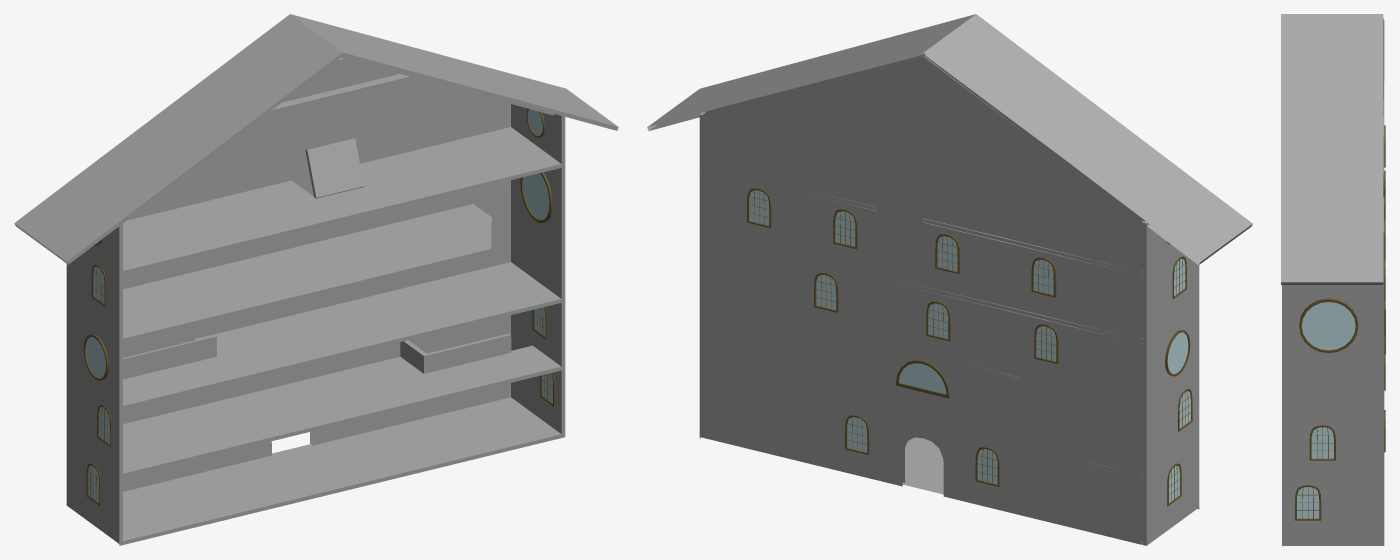
File: HouseUV.fbx
3 views of the same model, side by side, from view 1: azimuth 30°, elevation 25°; view 2: azimuth 150°, elevation 25°; view 3: azimuth 270°, elevation 25° (orthographic). The views are drawn at different scales.
Parts seen in each view (by area): view 1: BackWall, Roof3, GroundFloor, Floor2, Floor1, Floor4, Floor3, LeftWall, RightWall, AtticHatch, Round_Window, Round_Window4; view 2: BackWall, Roof3, LeftWall, GroundFloor, RightWall, CrescentWindow, Window25, Round_Window4, Window24, Window26, Window23, Window27 (+4 smaller); view 3: Roof3, RightWall, Round_Window, Window20, Window21, GroundFloor, BackWall, Floor4.
Boxes of the visible parts, x1=… form: BackWall: x1=123, y1=64, x2=510, y2=491; Roof3: x1=14, y1=14, x2=618, y2=264; GroundFloor: x1=119, y1=397, x2=565, y2=545; Floor2: x1=119, y1=262, x2=565, y2=410; Floor1: x1=119, y1=333, x2=565, y2=478; Floor4: x1=119, y1=127, x2=565, y2=275; Floor3: x1=119, y1=204, x2=491, y2=343; LeftWall: x1=66, y1=223, x2=122, y2=543; RightWall: x1=511, y1=104, x2=565, y2=434; AtticHatch: x1=305, y1=138, x2=364, y2=198; Round_Window: x1=520, y1=172, x2=552, y2=222; Round_Window4: x1=83, y1=334, x2=108, y2=380; BackWall: x1=703, y1=55, x2=1144, y2=544; Roof3: x1=647, y1=14, x2=1252, y2=265; LeftWall: x1=1143, y1=221, x2=1199, y2=545; GroundFloor: x1=699, y1=437, x2=1199, y2=542; RightWall: x1=699, y1=112, x2=705, y2=437; CrescentWindow: x1=896, y1=360, x2=949, y2=398; Window25: x1=1031, y1=257, x2=1056, y2=297; Round_Window4: x1=1165, y1=330, x2=1190, y2=376; Window24: x1=1034, y1=323, x2=1058, y2=363; Window26: x1=935, y1=233, x2=959, y2=273; Window23: x1=926, y1=301, x2=950, y2=341; Window27: x1=833, y1=209, x2=857, y2=249; Roof3: x1=1281, y1=14, x2=1383, y2=284; RightWall: x1=1282, y1=230, x2=1384, y2=543; Round_Window: x1=1299, y1=298, x2=1358, y2=353; Window20: x1=1295, y1=485, x2=1321, y2=520; Window21: x1=1309, y1=425, x2=1335, y2=460; GroundFloor: x1=1282, y1=542, x2=1384, y2=545; BackWall: x1=1383, y1=19, x2=1384, y2=226; Floor4: x1=1383, y1=82, x2=1384, y2=230.
Bounding box in the file's own units: 29.95 × 22.79 × 5.07.
